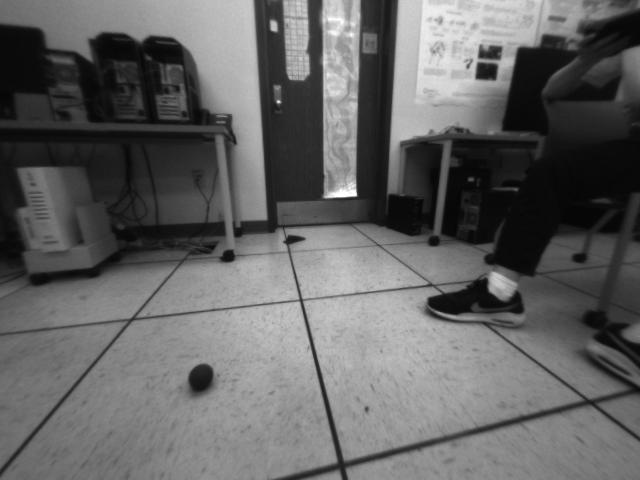dogtoy: (180, 353, 221, 397)
